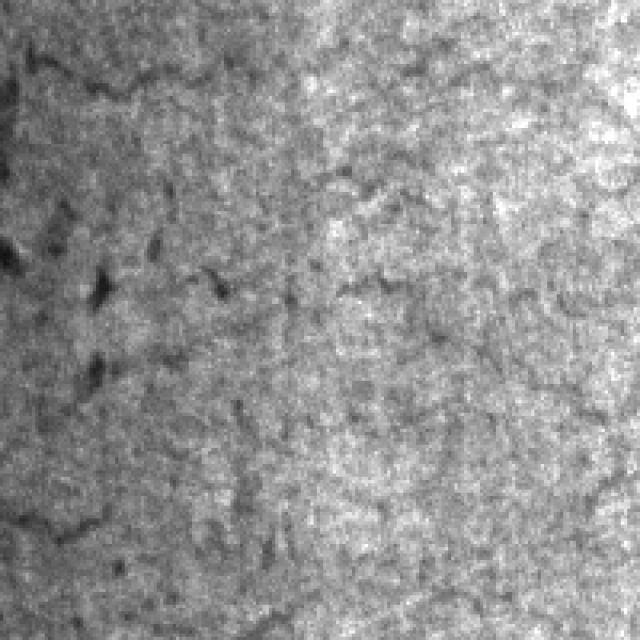crazing: (340, 253, 630, 611), (3, 19, 509, 205), (28, 150, 202, 550)
